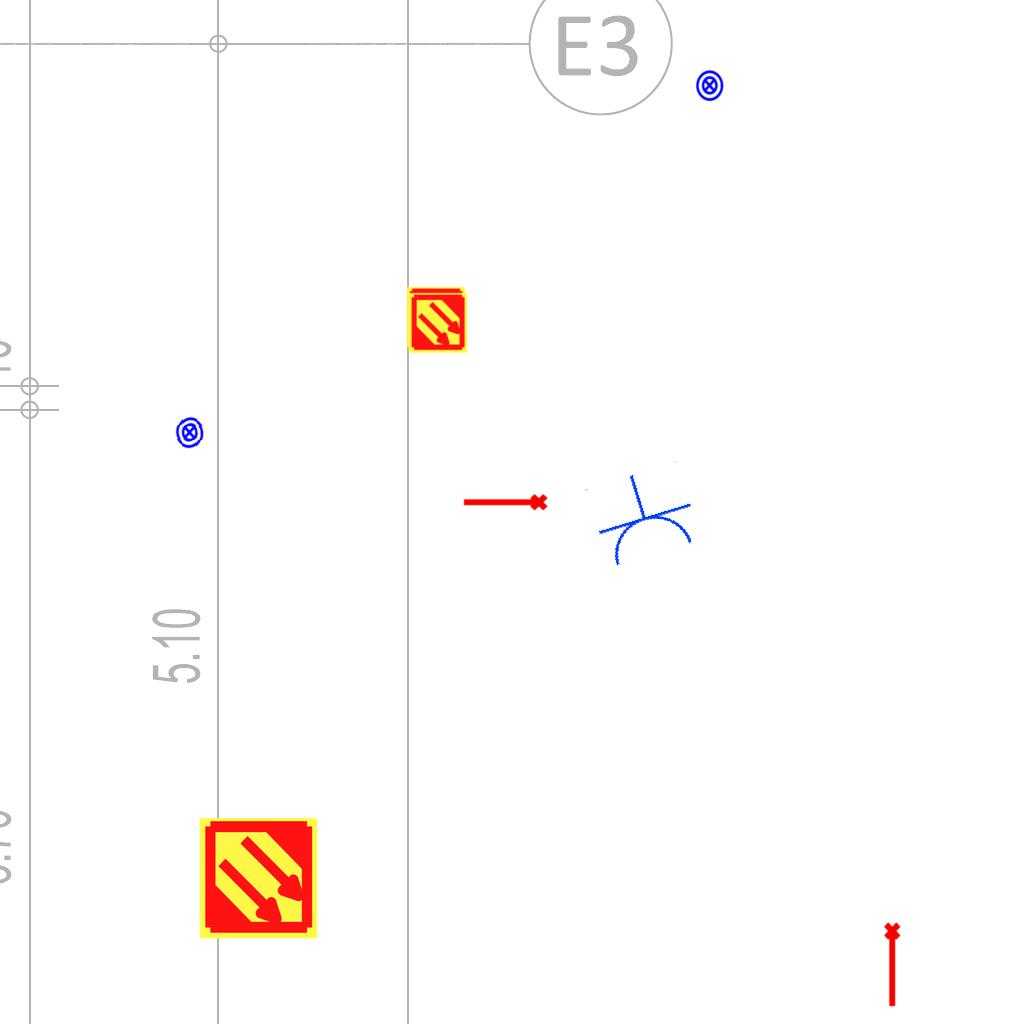ASR_Ansaugoeffnung: (461, 492, 549, 515), (882, 921, 905, 1009)
ASR_Ansaugrauchmelder: (196, 816, 321, 941), (405, 286, 467, 348), (407, 292, 469, 354)
Schukosteckdose_einfach: (582, 460, 704, 573)
Taster_beleuchtet: (171, 414, 208, 451), (693, 69, 726, 102)
